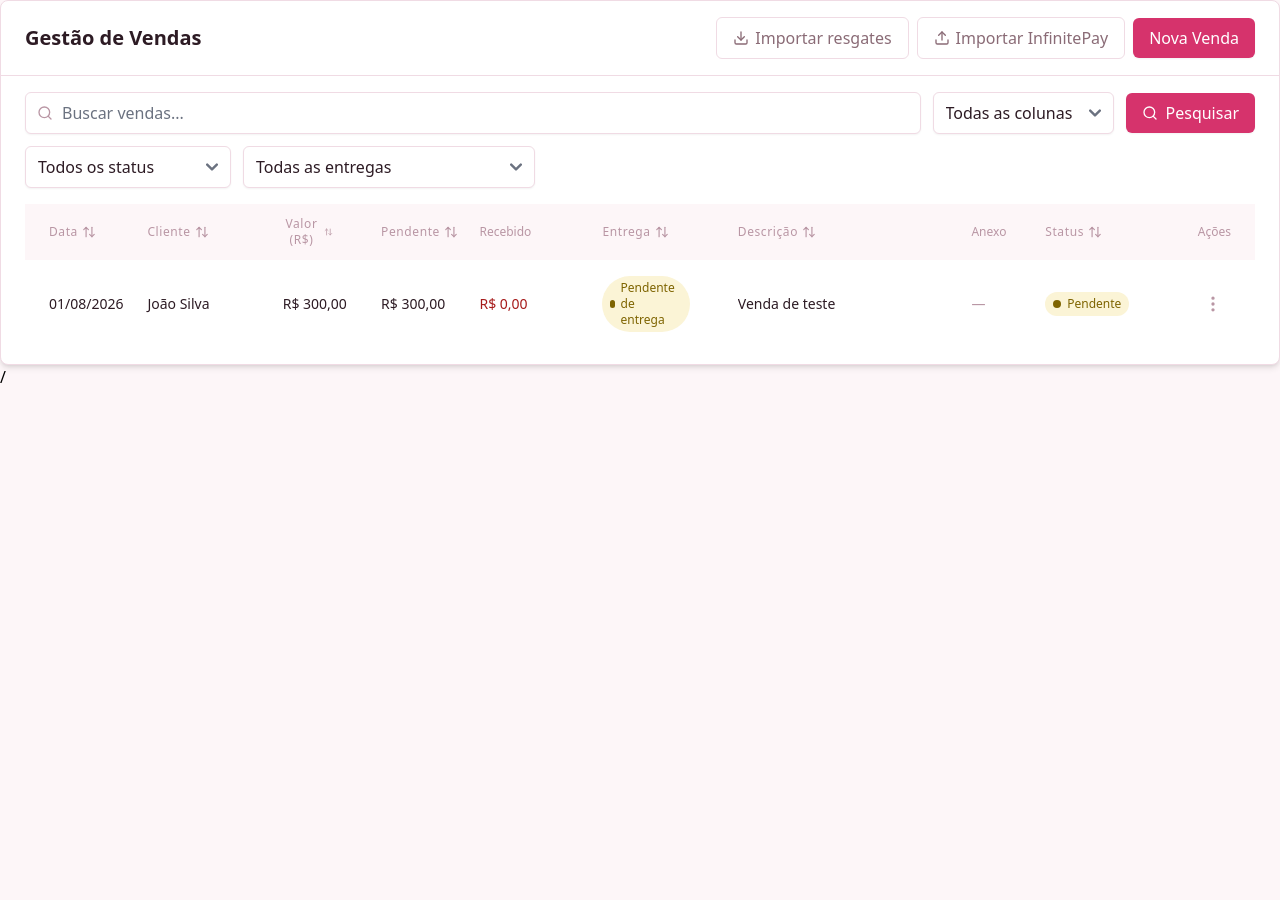
SalesPayments › Payment Modal › should open the payment modal and fetch the balance
The width and height of the screenshot is (1280, 900).
Click the button named "Ações da venda". click: {"x": 1213, "y": 304}
box: [1195,286,1231,322]
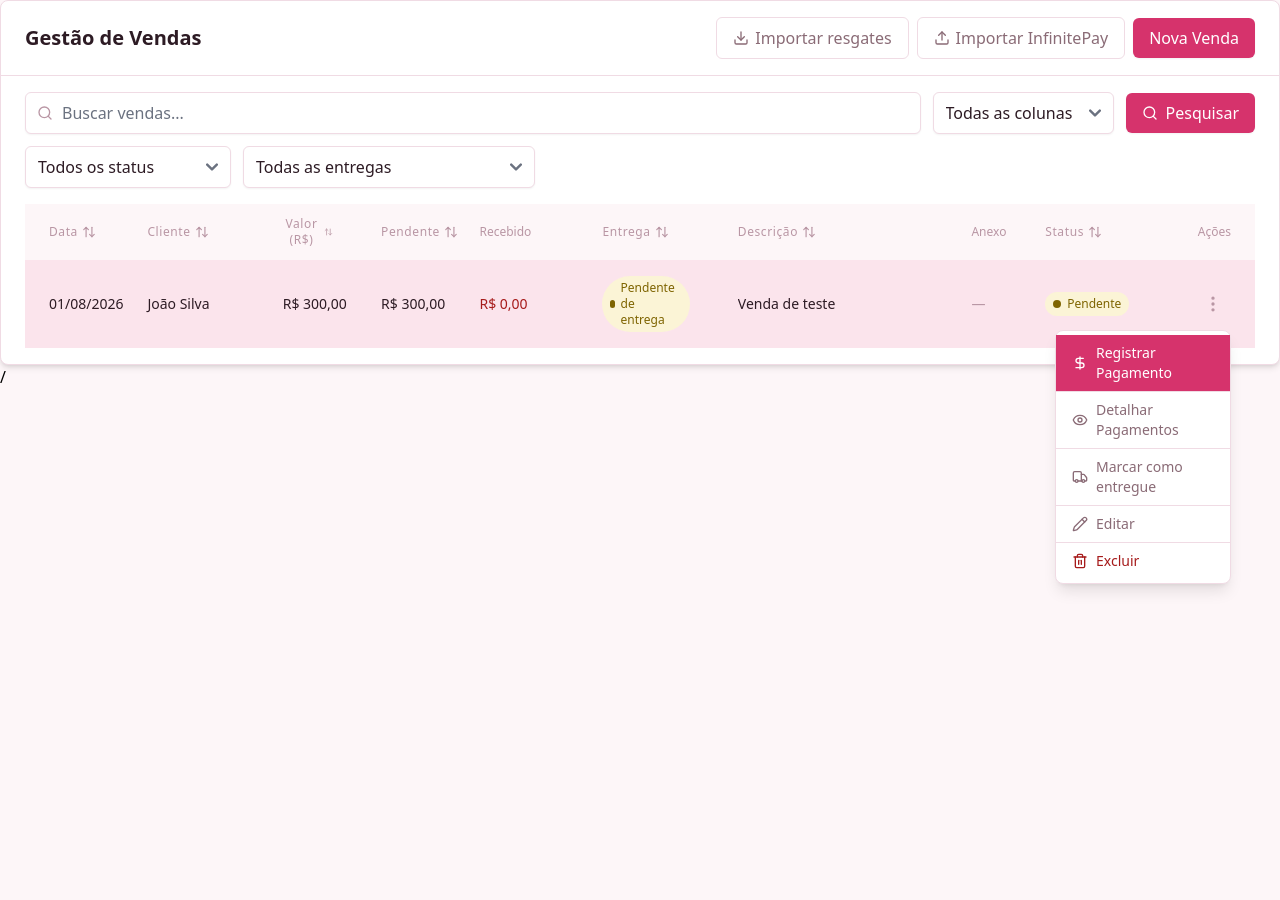
Click the menu item "Registrar Pagamento". click: {"x": 1143, "y": 363}
box: [1056,335,1230,391]
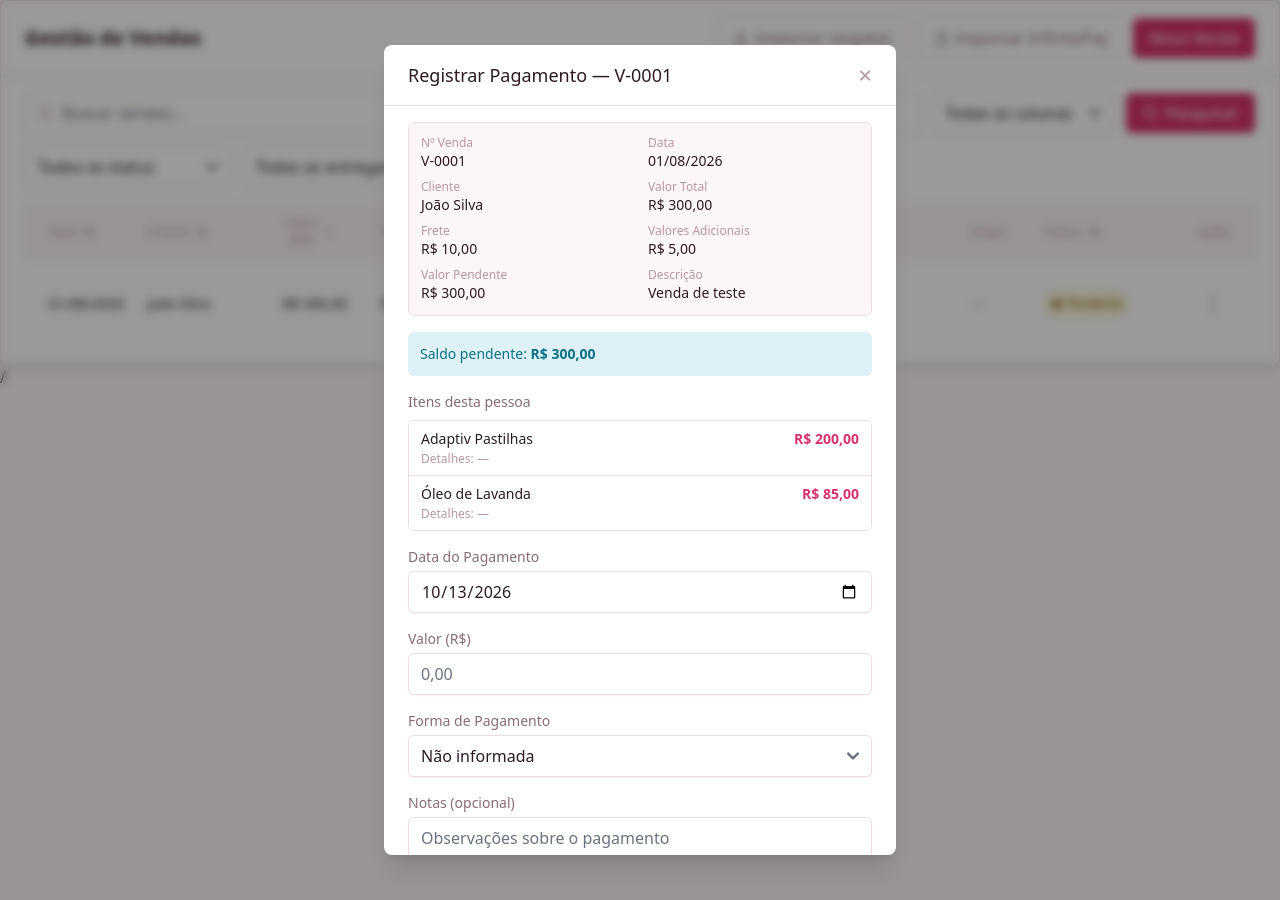
Check: the element with test id "sale-payment-modal" is shown
Check: the heading "Registrar Pagamento — V-0001" is shown, box [408,61,672,89]
